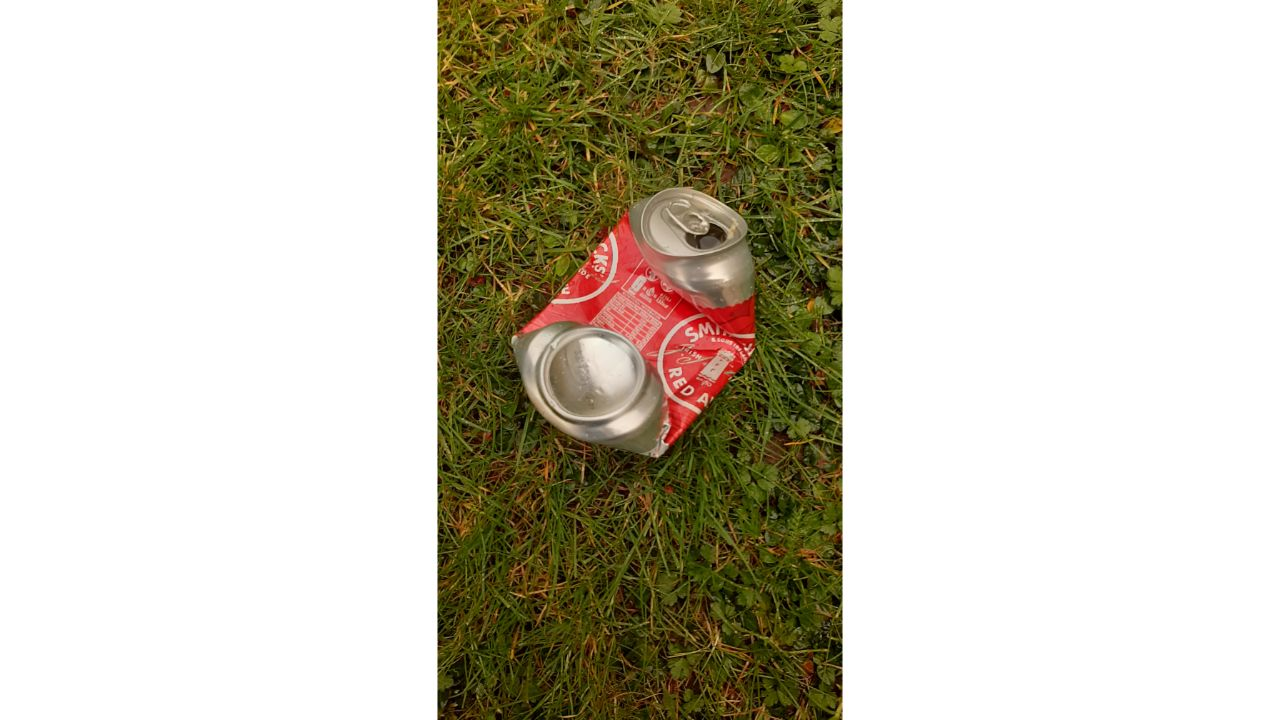Can: (512, 187, 759, 458)
